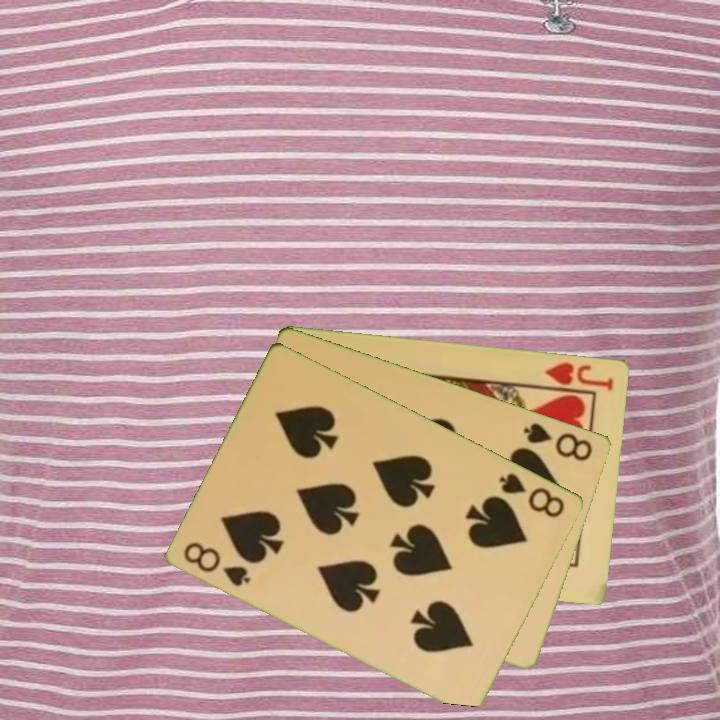8s: (180, 538, 254, 590), (496, 468, 568, 521), (520, 418, 596, 464)
Jh: (541, 358, 617, 393)
